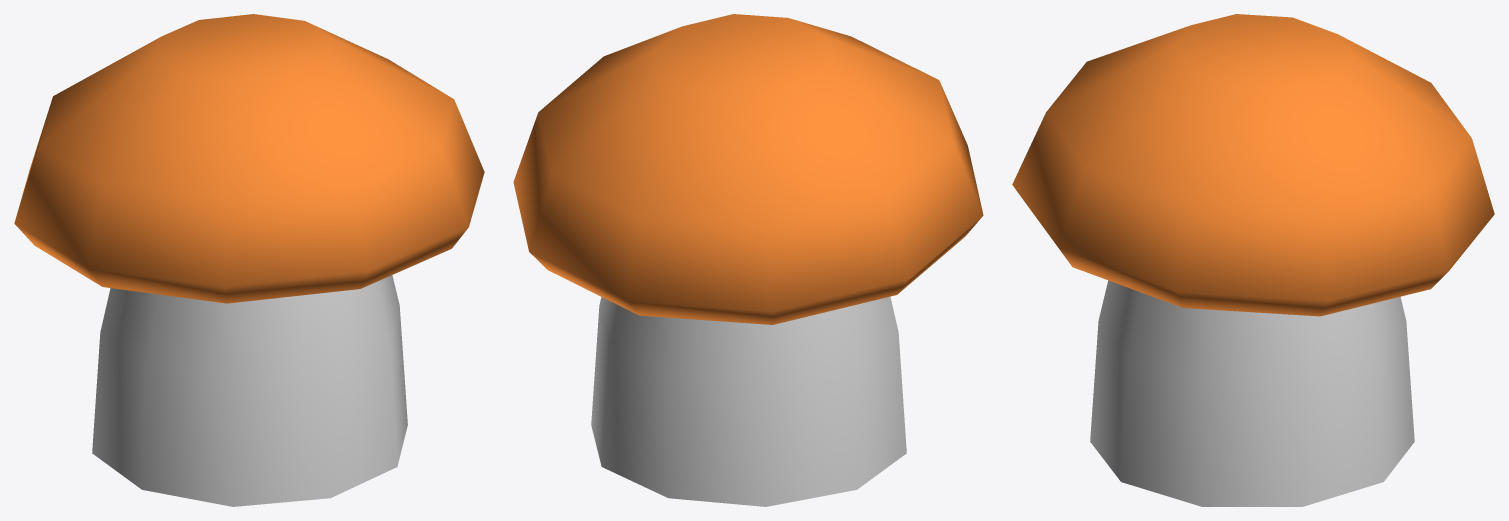
File: mushroom.fbx
3 renders of one model, left to right at view 1: azimuth 30°, elevation 25°; view 2: azimuth 150°, elevation 25°; view 3: azimuth 270°, elevation 25°, orthographic.
Visible parts, largest first — view 1: mushroom; view 2: mushroom; view 3: mushroom.
Boxes of the visible parts, x1,y1,x2,y2 form: mushroom: [14, 14, 484, 506]; mushroom: [513, 14, 983, 506]; mushroom: [1012, 14, 1494, 506].
Bounding box in the file's own units: 0.0901 × 0.0854 × 0.0945.
